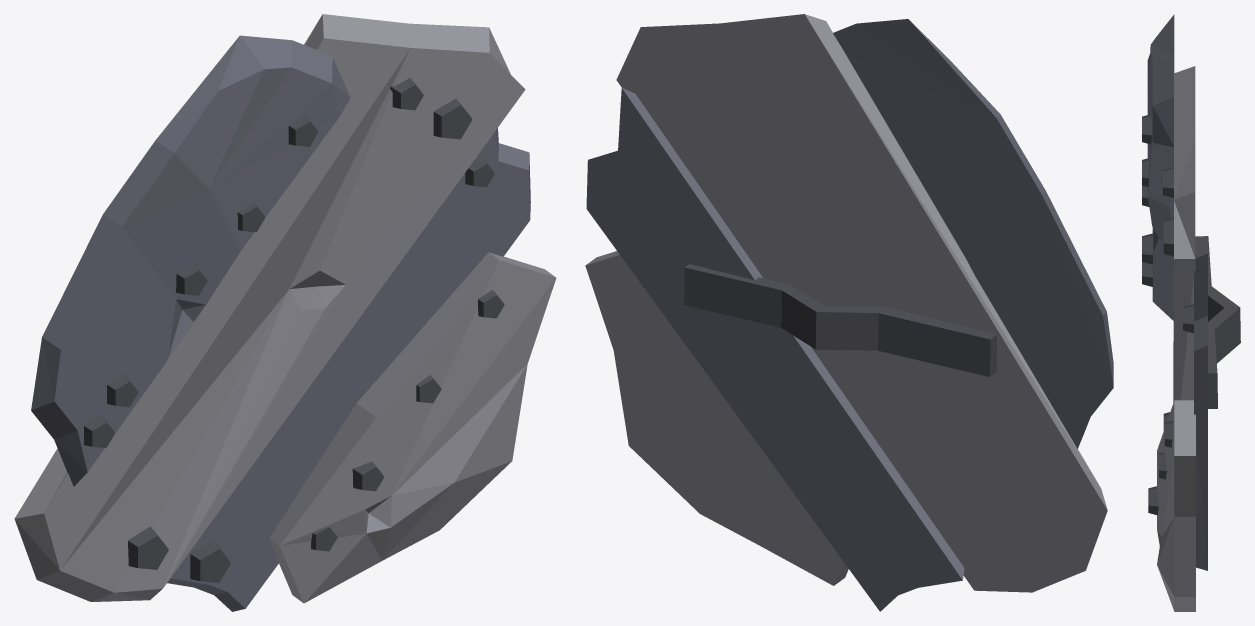
Rendered from shield_shield_10.glb.
3 views of the same model, side by side, from view 1: azimuth 30°, elevation 25°; view 2: azimuth 150°, elevation 25°; view 3: azimuth 270°, elevation 25° (orthographic). The views are drawn at different scales.
Parts seen in each view (by area): view 1: shield_10; view 2: shield_10; view 3: shield_10.
Part boxes in pixels (x1=…): shield_10: x1=14, y1=14, x2=556, y2=611; shield_10: x1=585, y1=14, x2=1113, y2=611; shield_10: x1=1142, y1=14, x2=1240, y2=611.
Bounding box in the file's own units: 69.74 × 74.36 × 12.05.
1 material, 1 textured.
